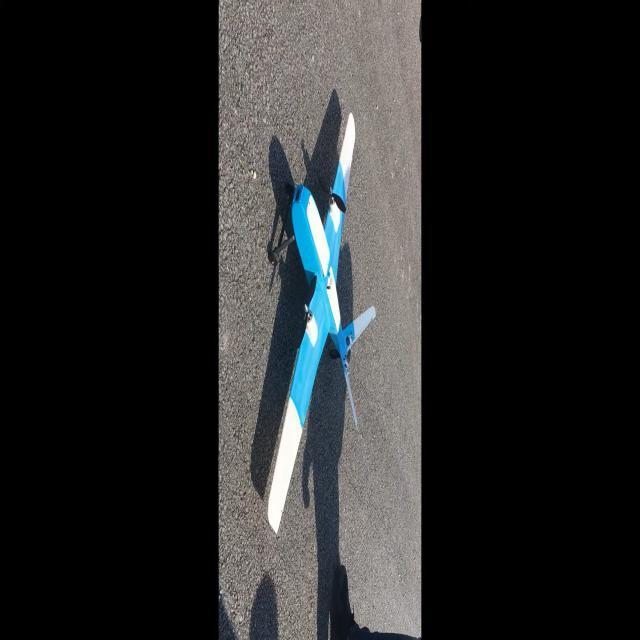iha: (256, 99, 389, 537)
